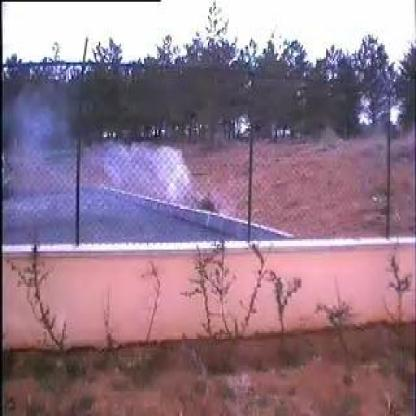-: (45, 118, 211, 243)
